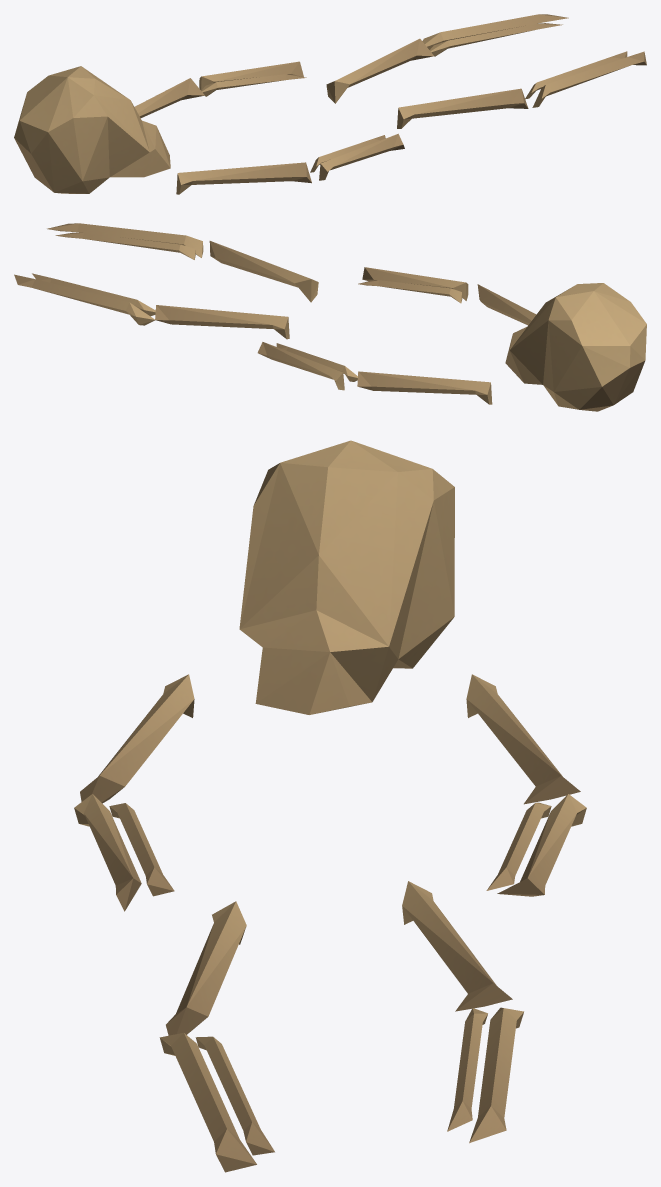
File: Skull_LOD.fbx
3 renders of one model, top to bottom at view 1: azimuth 30°, elevation 25°; view 2: azimuth 150°, elevation 25°; view 3: azimuth 270°, elevation 25°, orthographic. The views are drawn at different scales.
Visible parts, largest first — view 1: polySurface1438; view 2: polySurface1438; view 3: polySurface1438.
Part boxes in pixels (bbox=[...]): polySurface1438: bbox=[14, 14, 646, 194]; polySurface1438: bbox=[14, 223, 646, 411]; polySurface1438: bbox=[74, 440, 586, 1172].
Bounding box in the file's own units: 4.91 × 0.9079 × 1.82.
